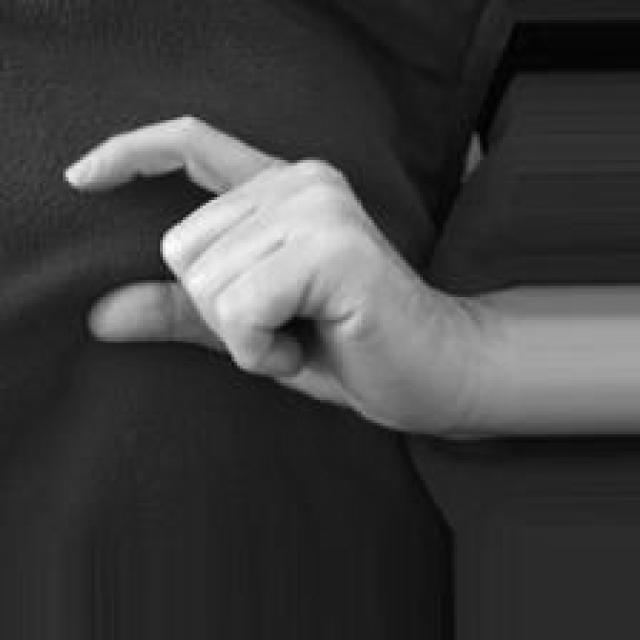C: (60, 112, 472, 442)
